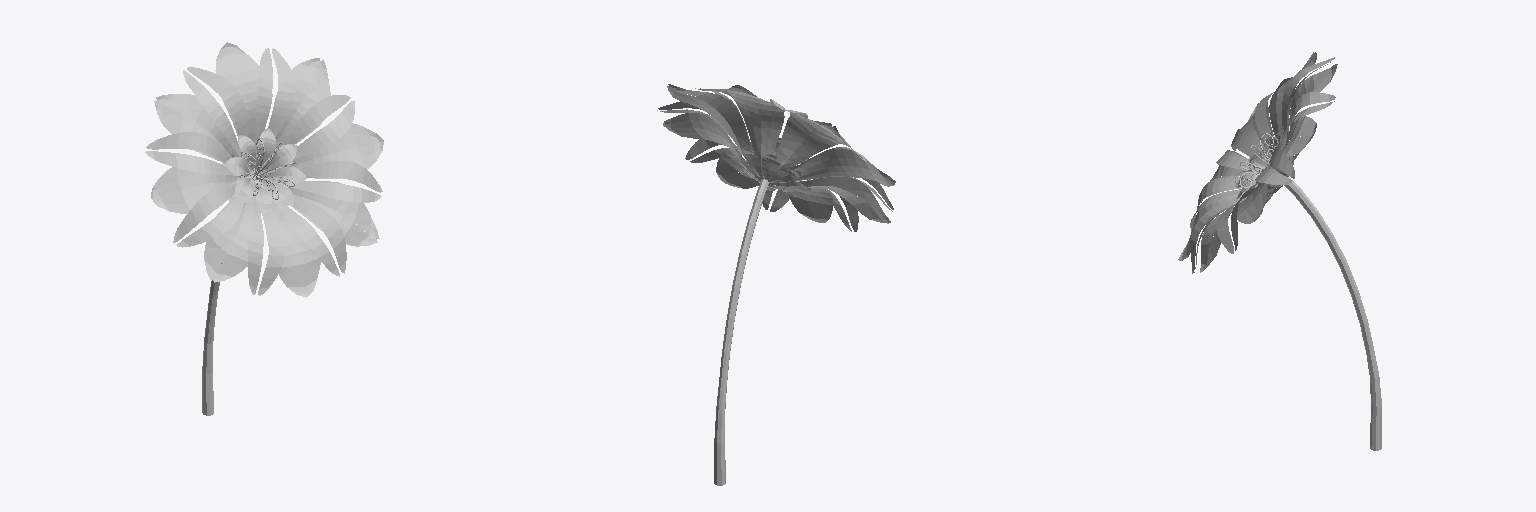
The model's file is tree_medium.obj.
3 views of the same model, side by side, from view 1: azimuth 30°, elevation 25°; view 2: azimuth 150°, elevation 25°; view 3: azimuth 270°, elevation 25° (orthographic).
Visible parts, largest first — view 1: Tree_Flower_Medium_Plane.004; view 2: Tree_Flower_Medium_Plane.004; view 3: Tree_Flower_Medium_Plane.004.
Boxes of the visible parts, box(x1,y1,x2,y2) form: Tree_Flower_Medium_Plane.004: box(145, 42, 383, 415); Tree_Flower_Medium_Plane.004: box(657, 84, 895, 485); Tree_Flower_Medium_Plane.004: box(1178, 52, 1381, 450).
Bounding box in the file's own units: 5.64 × 8.89 × 4.28.